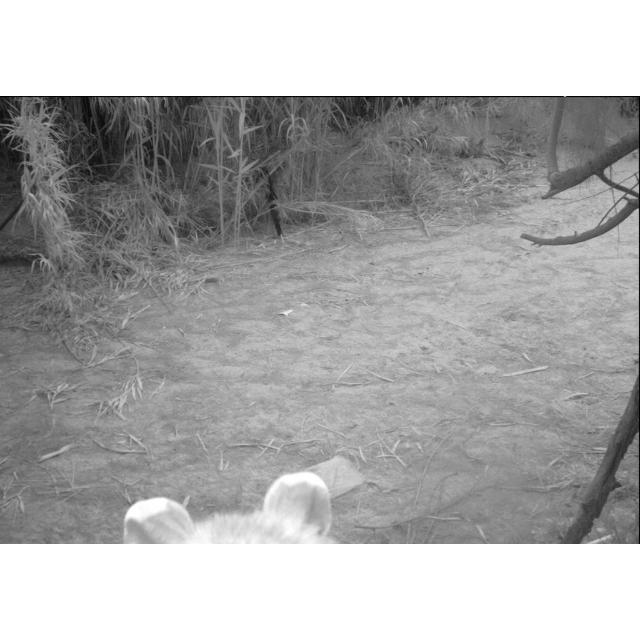animals: (123, 469, 343, 545)
